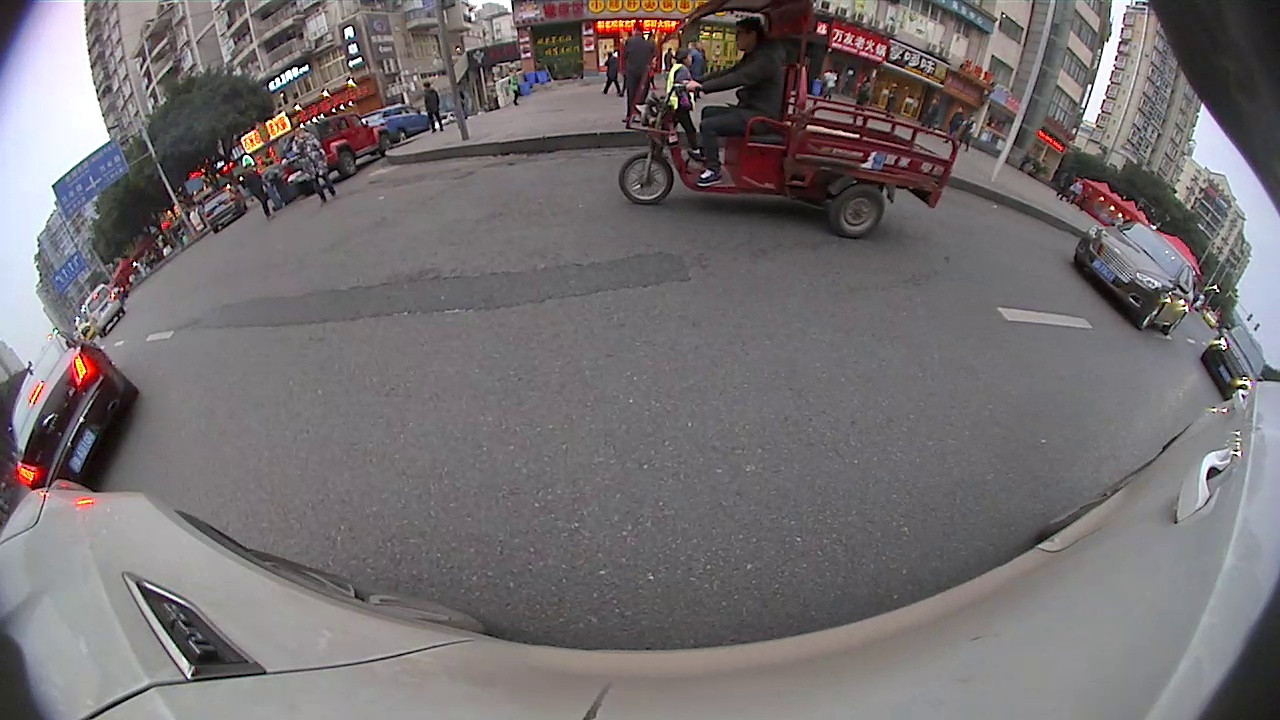car: (10, 327, 141, 499), (1078, 203, 1200, 336), (272, 111, 395, 191), (1201, 322, 1269, 398), (370, 98, 431, 145), (81, 280, 124, 338), (202, 188, 244, 235)
front: (616, 150, 676, 209)
person: (289, 123, 331, 205)
rear: (827, 179, 888, 240)
rider: (614, 1, 955, 235)
